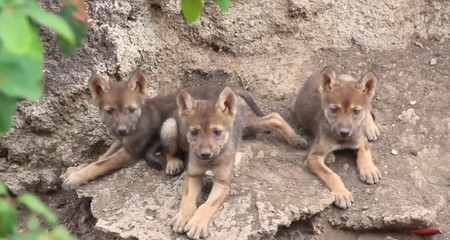Lobo: (169, 35, 283, 230), (292, 58, 380, 198), (94, 75, 172, 214)
